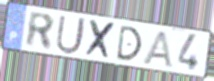4: (176, 31, 201, 74)
A: (140, 30, 175, 70)
D: (115, 25, 144, 63)
R: (25, 10, 56, 52)
U: (54, 14, 88, 56)
X: (84, 19, 118, 62)
